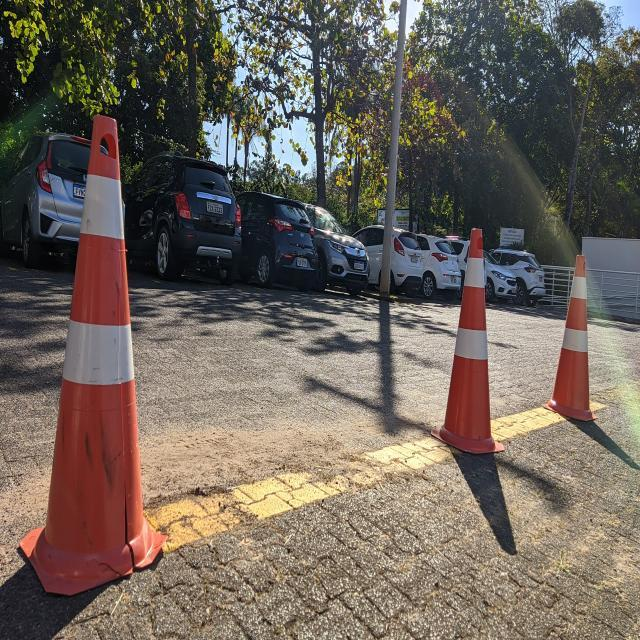Cone: (16, 108, 172, 599), (428, 222, 508, 458), (540, 250, 600, 426)
